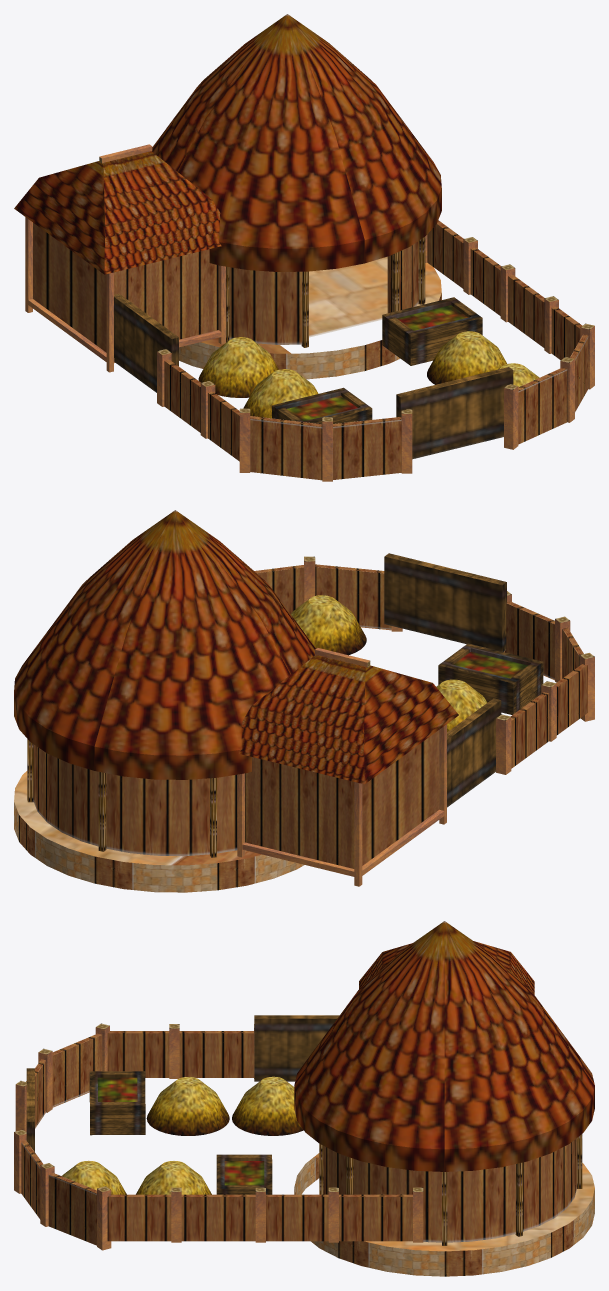
Rendered from corral.dae.
3 renders of one model, top to bottom at view 1: azimuth 30°, elevation 25°; view 2: azimuth 150°, elevation 25°; view 3: azimuth 270°, elevation 25°, orthographic. The views are drawn at different scales.
Parts seen in each view (by area): view 1: corral; view 2: corral; view 3: corral.
Boxes of the visible parts, x1,y1,x2,y2 form: corral: (14,14,594,481); corral: (14,510,594,892); corral: (14,921,594,1276).
Size of the model in its own units: 13.89 by 19.9 by 11.02.
